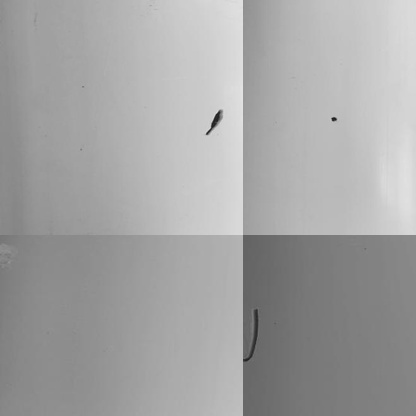fengxi: (244, 305, 262, 366)
kongdong: (204, 109, 225, 137)
sunshang: (1, 237, 22, 271)
